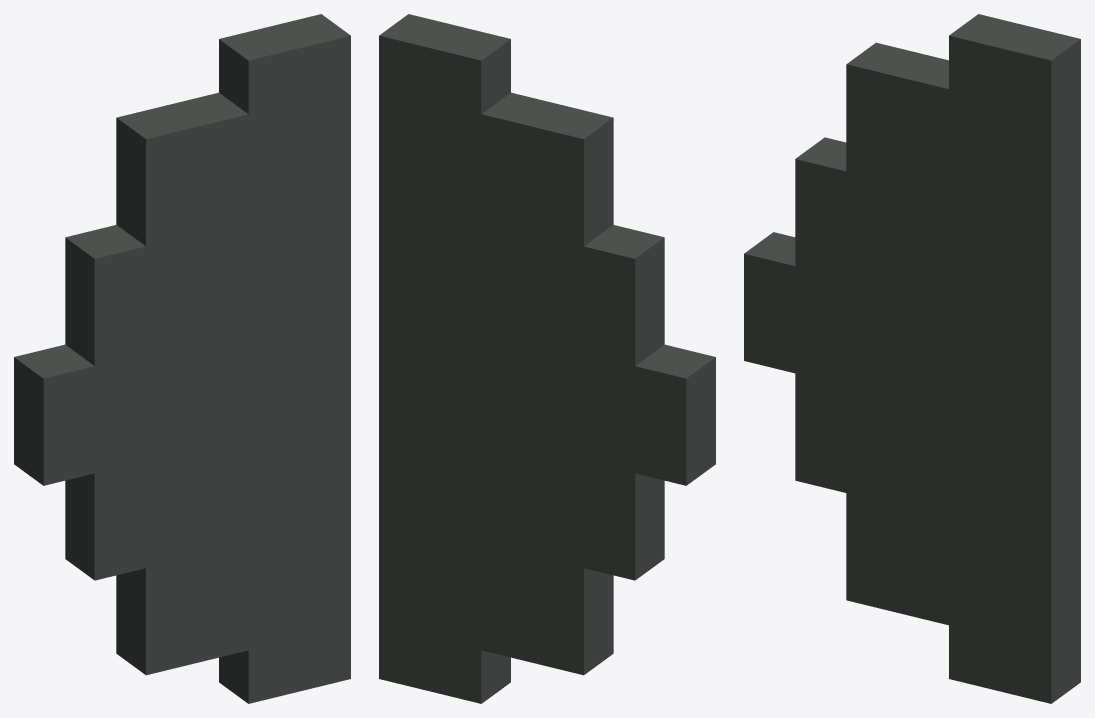
The model's file is pokemon-overlay-0-10.obj.
The picture shows the model from 3 angles, left to right: view 1: azimuth 30°, elevation 25°; view 2: azimuth 150°, elevation 25°; view 3: azimuth 330°, elevation 25°; orthographic projection.
Bounding box in the file's own units: 0.6 × 1.2 × 0.1.
Materials: 1 (1 with a texture image).
